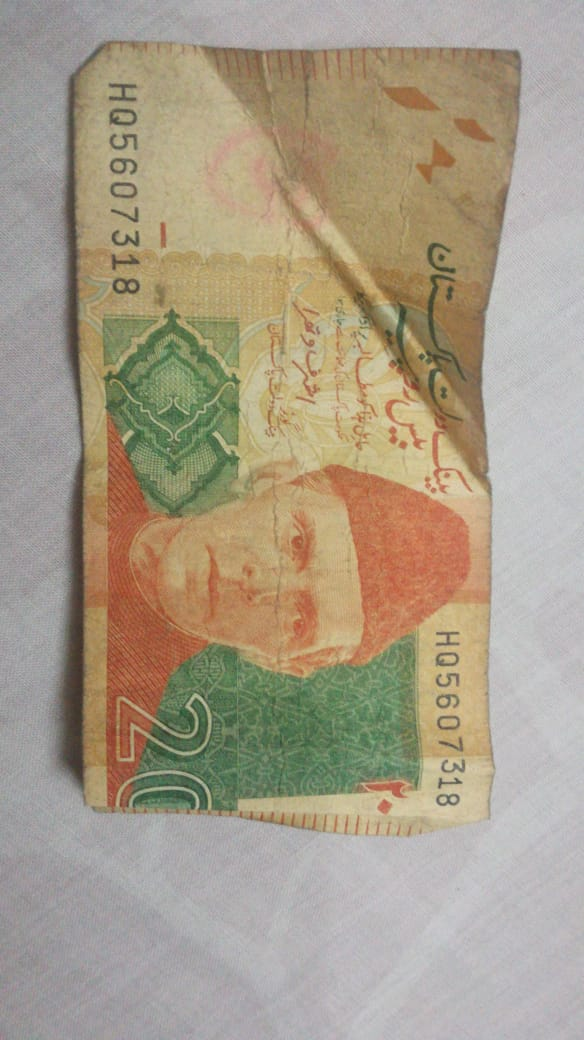20 rupee: (71, 33, 527, 859)
